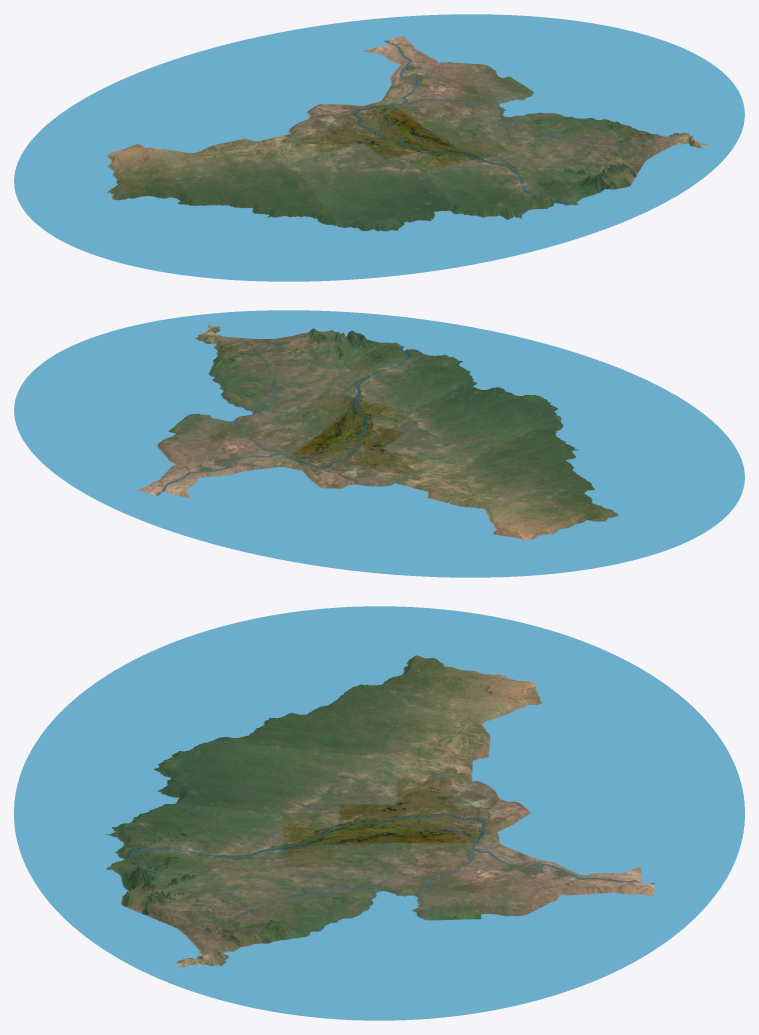
File: SDS-previa-terrain.glb
3 renders of one model, top to bottom at view 1: azimuth 30°, elevation 25°; view 2: azimuth 150°, elevation 25°; view 3: azimuth 270°, elevation 25°, orthographic. The views are drawn at different scales.
Parts seen in each view (by area): view 1: Sudão do Sul; view 2: Sudão do Sul; view 3: Sudão do Sul.
Boxes of the visible parts, x1,y1,x2,y2 form: Sudão do Sul: (14,14,744,281); Sudão do Sul: (14,310,744,577); Sudão do Sul: (14,606,744,1020).
Bounding box in the file's own units: 2.34 × 0.0469 × 1.75.
1 material, 1 textured.
